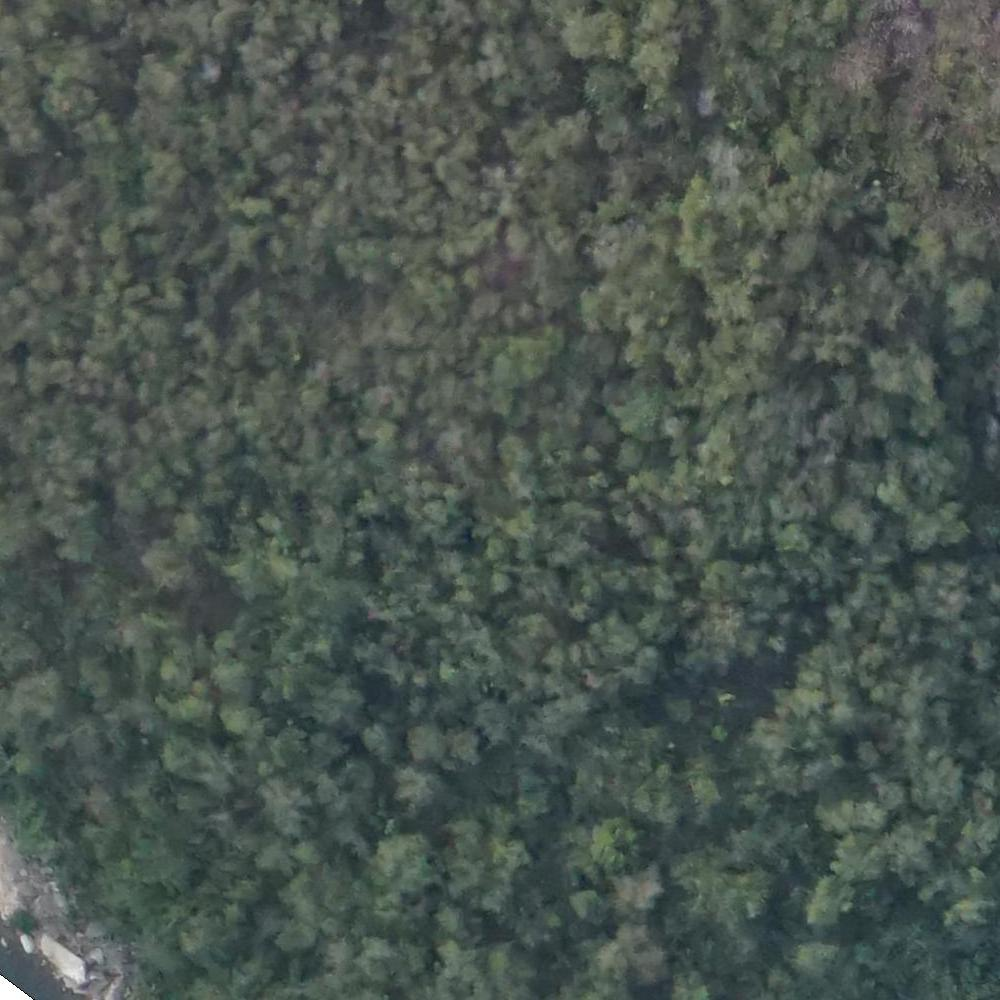tree: (447, 829, 524, 915), (391, 267, 448, 329), (889, 675, 946, 735), (145, 537, 203, 593), (878, 346, 934, 403), (681, 193, 738, 248), (46, 505, 103, 558), (592, 820, 644, 878), (910, 752, 960, 810), (477, 506, 529, 561), (565, 10, 625, 57), (136, 146, 185, 202), (833, 835, 886, 886), (832, 495, 883, 548), (946, 274, 993, 330), (790, 674, 846, 721), (260, 779, 310, 830), (582, 284, 629, 335), (585, 62, 637, 107), (502, 333, 544, 384), (479, 164, 518, 217), (388, 842, 431, 889), (709, 276, 752, 323), (615, 393, 661, 436), (419, 479, 461, 526), (588, 606, 630, 651), (221, 222, 261, 268), (395, 767, 439, 808), (298, 93, 341, 130), (699, 557, 736, 599), (210, 659, 249, 694), (638, 608, 675, 643)
